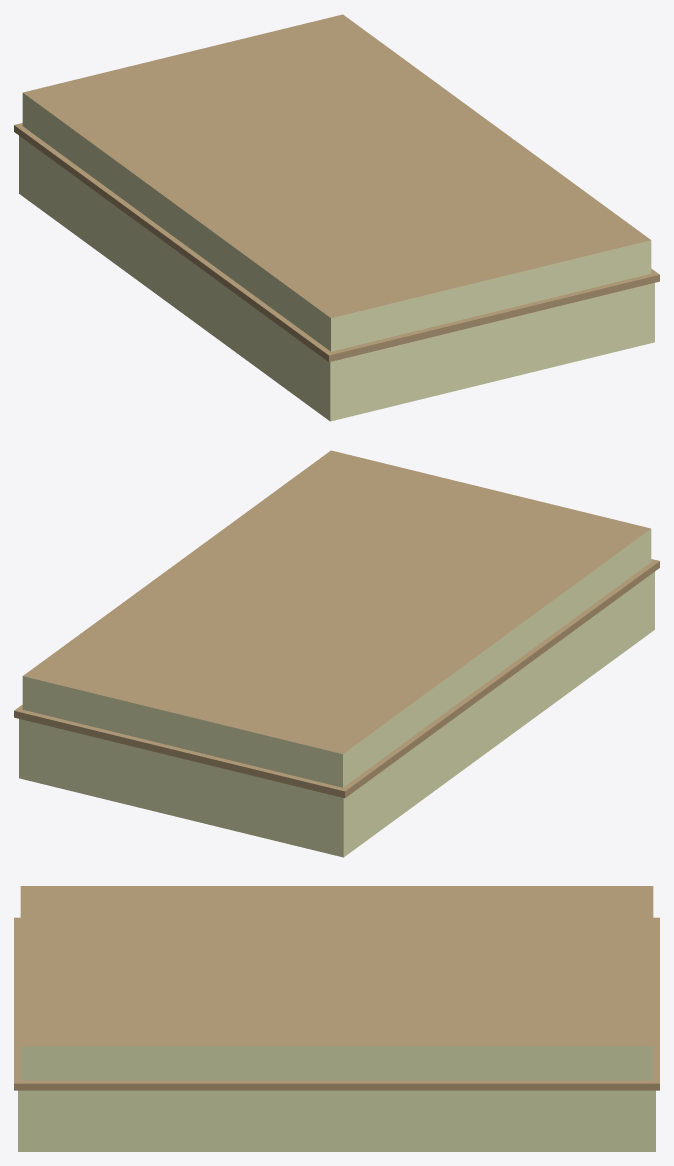
The model's file is Pilar01.fbx.
The picture shows the model from 3 angles, top to bottom: view 1: azimuth 30°, elevation 25°; view 2: azimuth 150°, elevation 25°; view 3: azimuth 270°, elevation 25°; orthographic projection. The views are drawn at different scales.
Visible parts, largest first — view 1: Cube.096; view 2: Cube.096; view 3: Cube.096.
Part boxes in pixels (left/top/right/bottom): Cube.096: left=14, top=14, right=659, bottom=421; Cube.096: left=14, top=450, right=659, bottom=857; Cube.096: left=14, top=886, right=659, bottom=1151.
Bounding box in the file's own units: 1016 × 298 × 1673.
